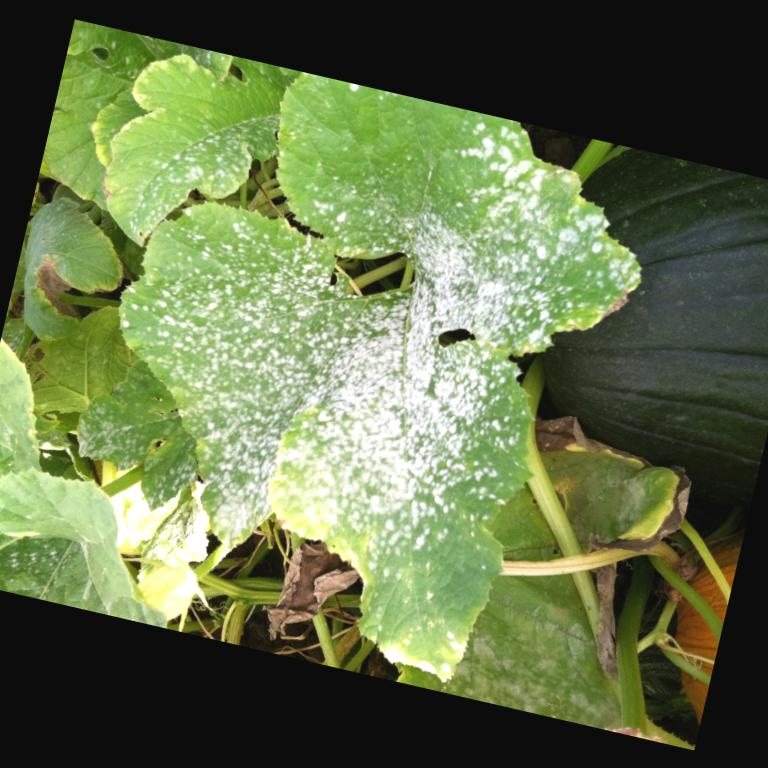powdery-mildew: (304, 295, 509, 528), (168, 238, 342, 418)
